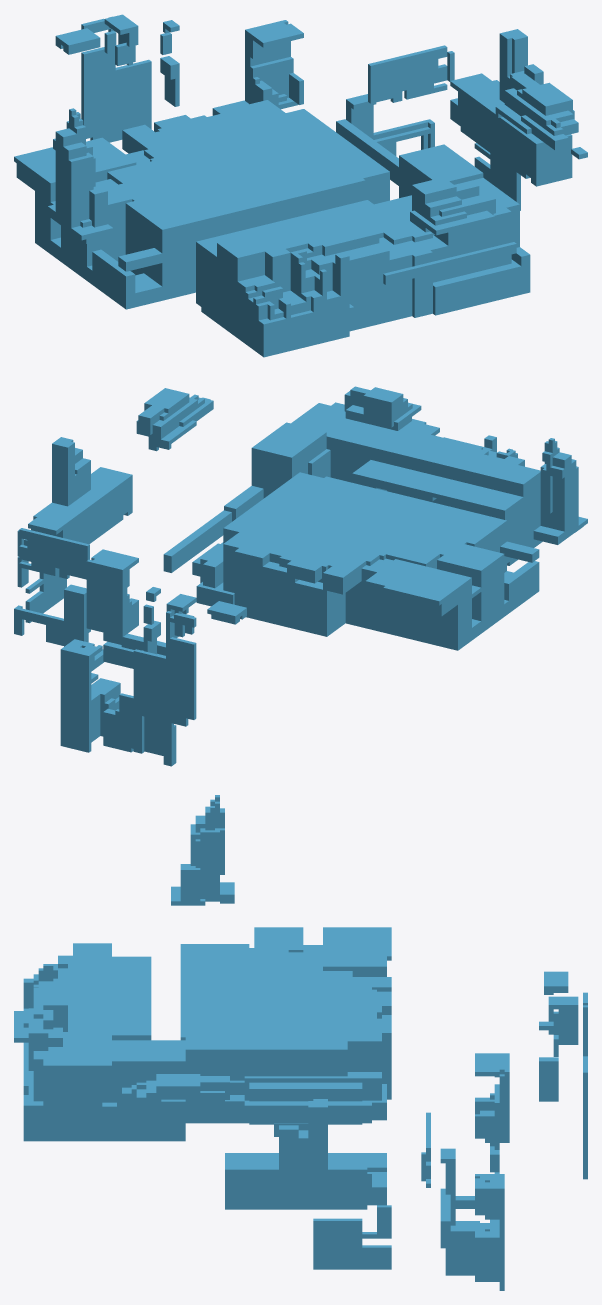
The model's file is 玻璃材质.obj.
3 views of the same model, one above another, from view 1: azimuth 30°, elevation 25°; view 2: azimuth 150°, elevation 25°; view 3: azimuth 270°, elevation 25° (orthographic). The views are drawn at different scales.
Parts seen in each view (by area): view 1: 玻璃材质; view 2: 玻璃材质; view 3: 玻璃材质.
Part boxes in pixels (x1,y1,x2,y2): 玻璃材质: [14, 14, 587, 357]; 玻璃材质: [14, 386, 587, 766]; 玻璃材质: [14, 795, 587, 1290].
Size of the model in its own units: 116 by 70 by 117.
Materials: 1 (1 with a texture image).
